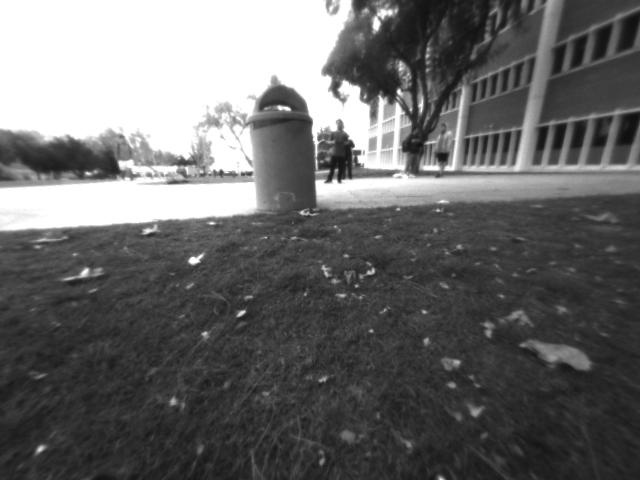trashcan: (243, 76, 325, 216)
